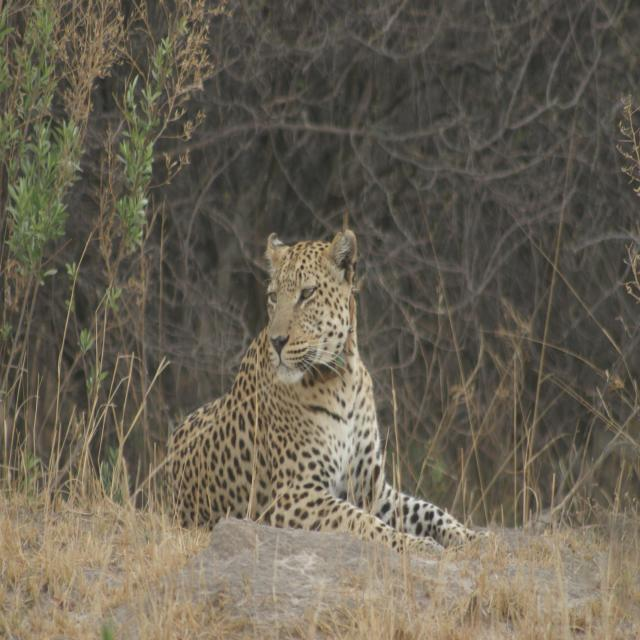Leopard: (152, 226, 504, 554)
